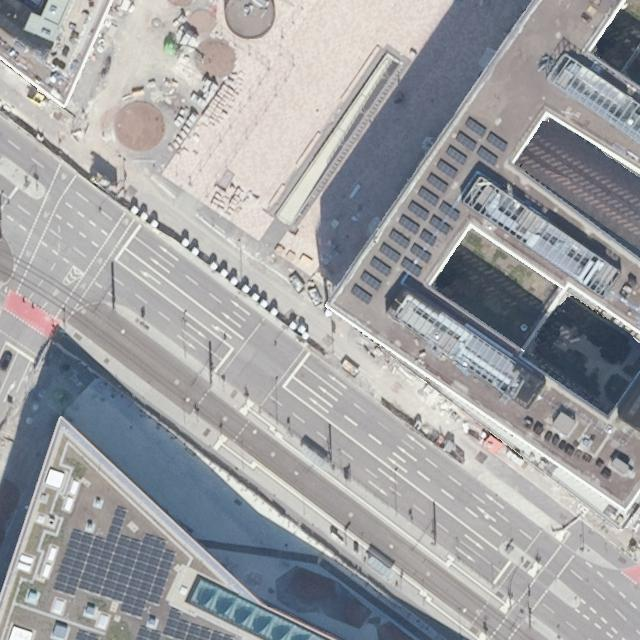PV: (49, 502, 179, 623), (133, 604, 240, 639), (367, 254, 393, 279), (386, 226, 413, 250), (462, 116, 489, 140), (378, 241, 403, 266), (405, 199, 432, 222), (433, 159, 461, 181), (358, 268, 383, 292), (453, 130, 478, 154), (485, 130, 510, 154), (348, 283, 374, 306), (399, 256, 425, 279), (396, 213, 422, 236), (426, 172, 451, 195), (476, 145, 500, 168), (409, 242, 433, 265), (416, 186, 441, 208), (444, 145, 469, 167), (428, 214, 453, 236), (439, 200, 462, 223), (419, 228, 439, 248), (75, 627, 102, 639)
